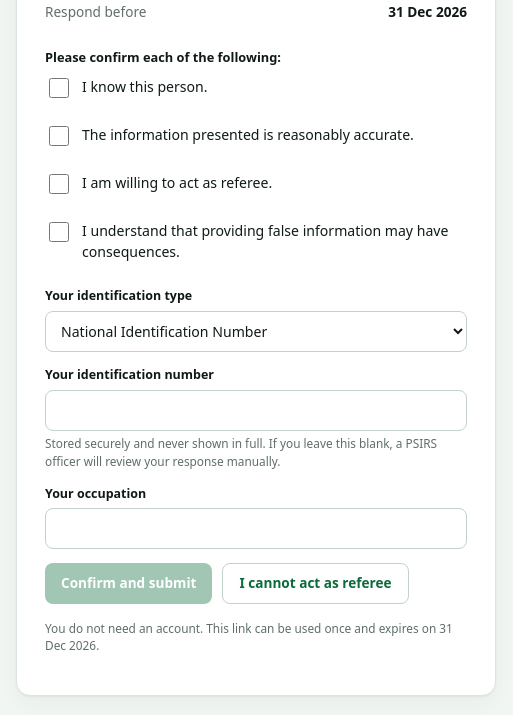
Test: a referee who did not mean to decline › does not decline anybody until they say so a second time
(page scrolled)
Click the button "I cannot act as referee" at x=315, y=584, box [222, 563, 408, 604]
(page scrolled)
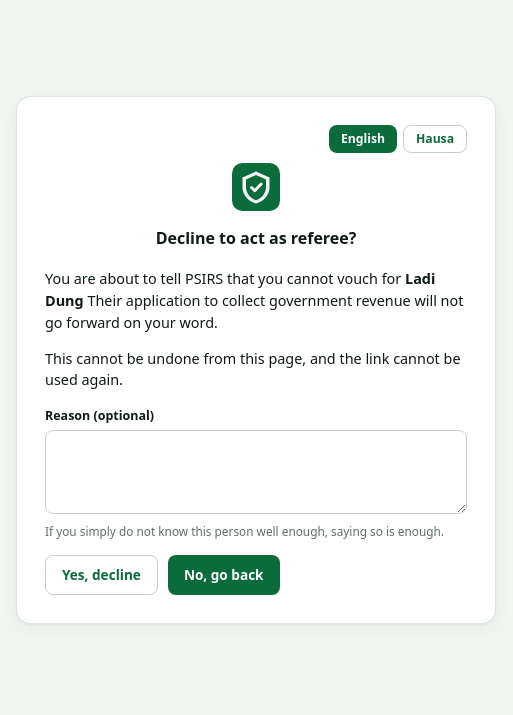
Check: the button "Yes, decline" is shown, box [45, 555, 158, 595]
